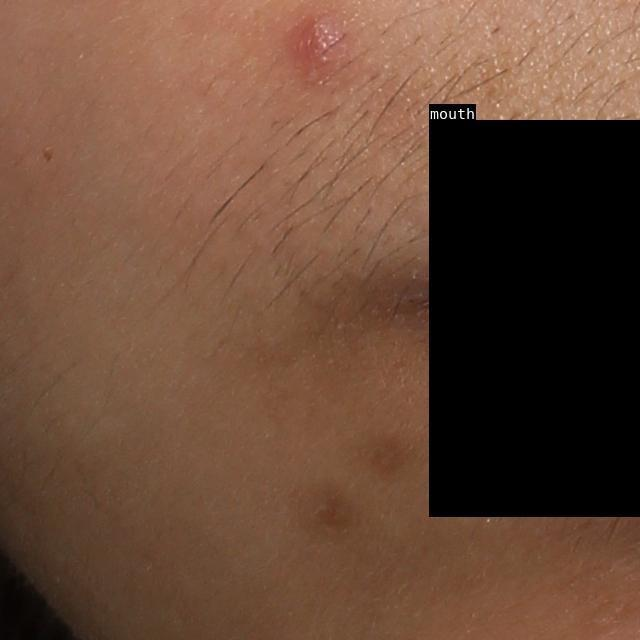papule: (295, 10, 360, 87)
